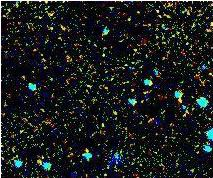star: (21, 146, 51, 176)
